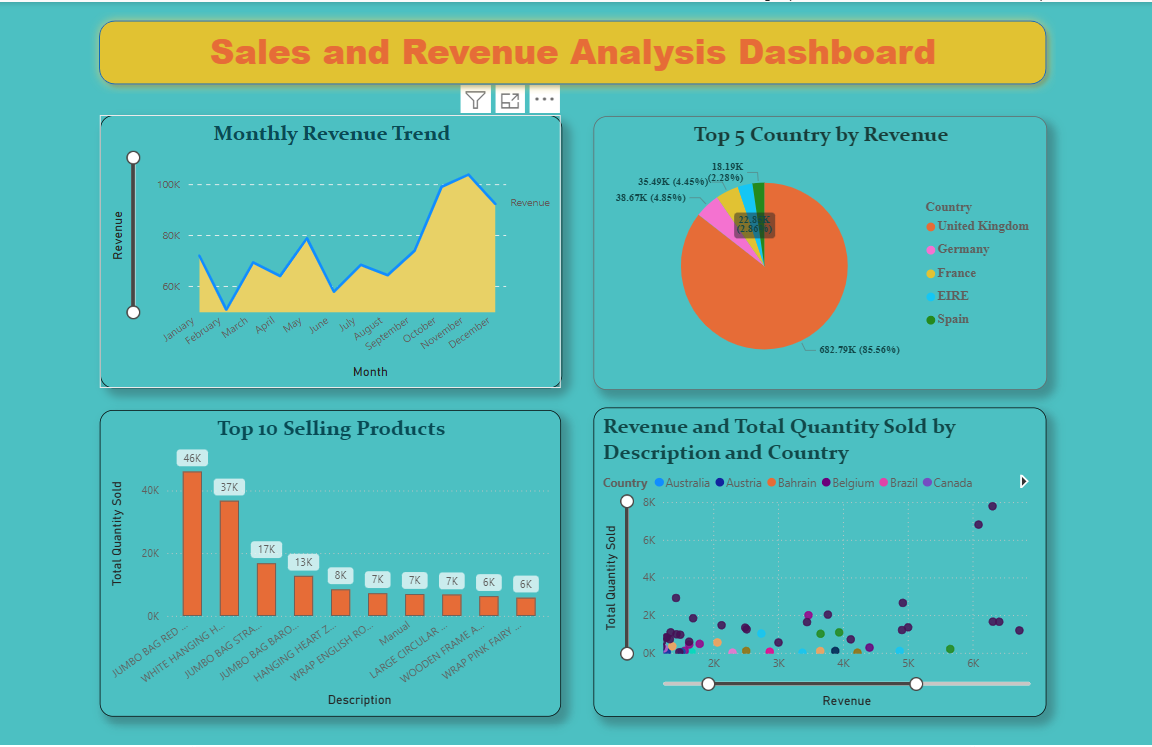

What the dashboard file says about the page in this screenshot:
{"tool":"powerbi","page":{"name":"Page 1","canvas":[1920,1080],"ordinal":0},"visuals":[{"type":"lineChart","title":"Monthly Revenue Trend","fields":{"Category":["Invoices.InvoiceDate.Variation.Date Hierarchy.Month"],"Y":["InvoiceItems.Revenue"]},"box":[421.1,297.8,527.9,312.2],"z":0},{"type":"lineClusteredColumnComboChart","title":"Top 10 Selling Products","fields":{"Category":["Products.Description"],"Y":["InvoiceItems.Total Quantity Sold"]},"box":[422,634.5,527.5,350],"z":1000},{"type":"scatterChart","fields":{"X":["InvoiceItems.Revenue"],"Y":["InvoiceItems.Total Quantity Sold"],"Category":["Products.Description"],"Series":["Customers.Country"]},"box":[985.8,630.8,517.5,353.8],"z":2000},{"type":"pieChart","title":"Top 5 Country by Revenue","fields":{"Category":["Customers.Country"],"Y":["InvoiceItems.Revenue"]},"box":[985.4,298.8,518.7,312.9],"z":3000},{"type":"shape","box":[410,178.6,1104.3,94.3],"z":3001}]}

Visuals, with their boxes on the page's 1920x1080 design canvas (x1, y1, x2, y2). These are canvas units, not pixel positions in the 1152x747 screenshot, which may show the page scaled, cropped or inside an application window:
"Monthly Revenue Trend" lineChart: select_region(421, 298, 949, 610)
"Top 10 Selling Products" lineClusteredColumnComboChart: select_region(422, 634, 950, 984)
scatterChart - InvoiceItems.Revenue x InvoiceItems.Total Quantity Sold: select_region(986, 631, 1503, 985)
"Top 5 Country by Revenue" pieChart: select_region(985, 299, 1504, 612)
shape: select_region(410, 179, 1514, 273)
